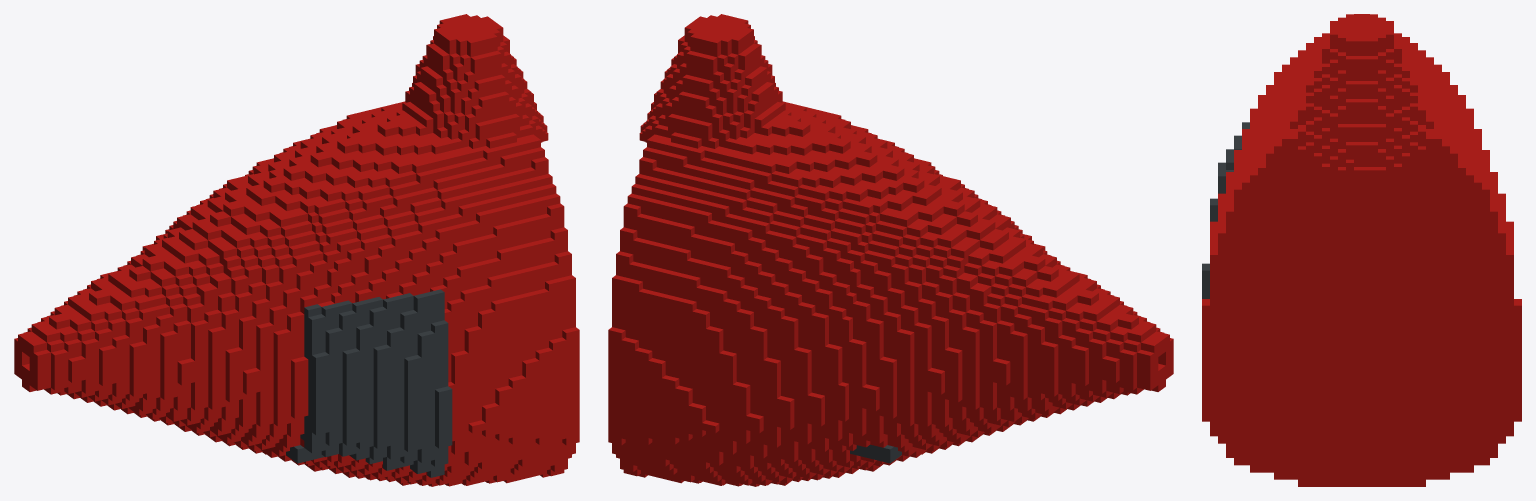
File: light_helicopter_rear_fairing.glb
3 renders of one model, left to right at view 1: azimuth 30°, elevation 25°; view 2: azimuth 150°, elevation 25°; view 3: azimuth 270°, elevation 25°, orthographic. The views are drawn at different scales.
Visible parts, largest first — view 1: body:compound; view 2: body:compound; view 3: body:compound.
Part boxes in pixels (x1,y1,x2,y2): body:compound: [14, 14, 579, 486]; body:compound: [608, 14, 1173, 486]; body:compound: [1202, 14, 1521, 486].
Bounding box in the file's own units: 2.38 × 1.91 × 1.25.
